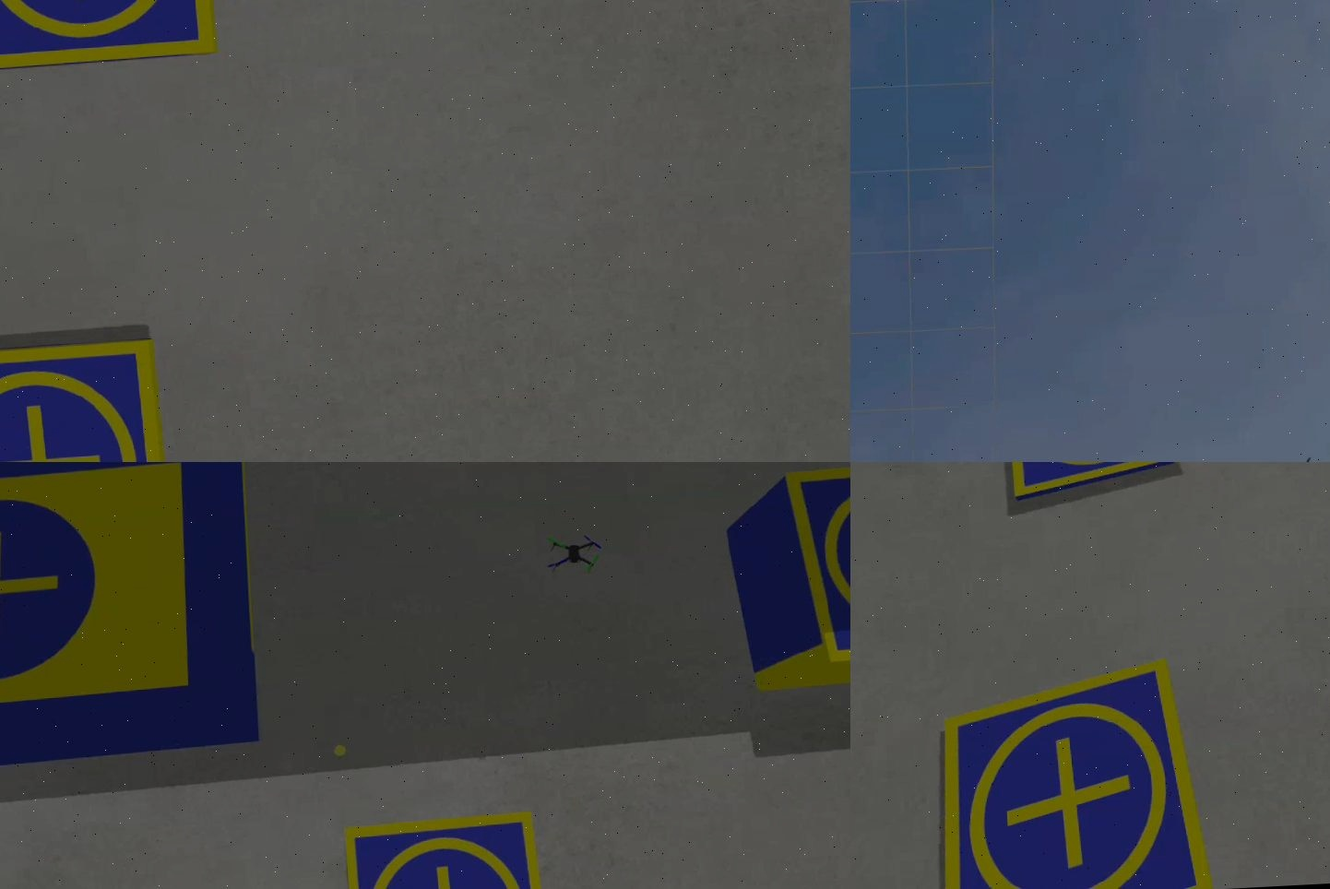large_base: (1, 462, 264, 776)
small_base: (927, 656, 1210, 889), (1, 338, 175, 462), (346, 810, 555, 889), (1, 1, 220, 74), (783, 462, 850, 668), (1003, 462, 1199, 505)
